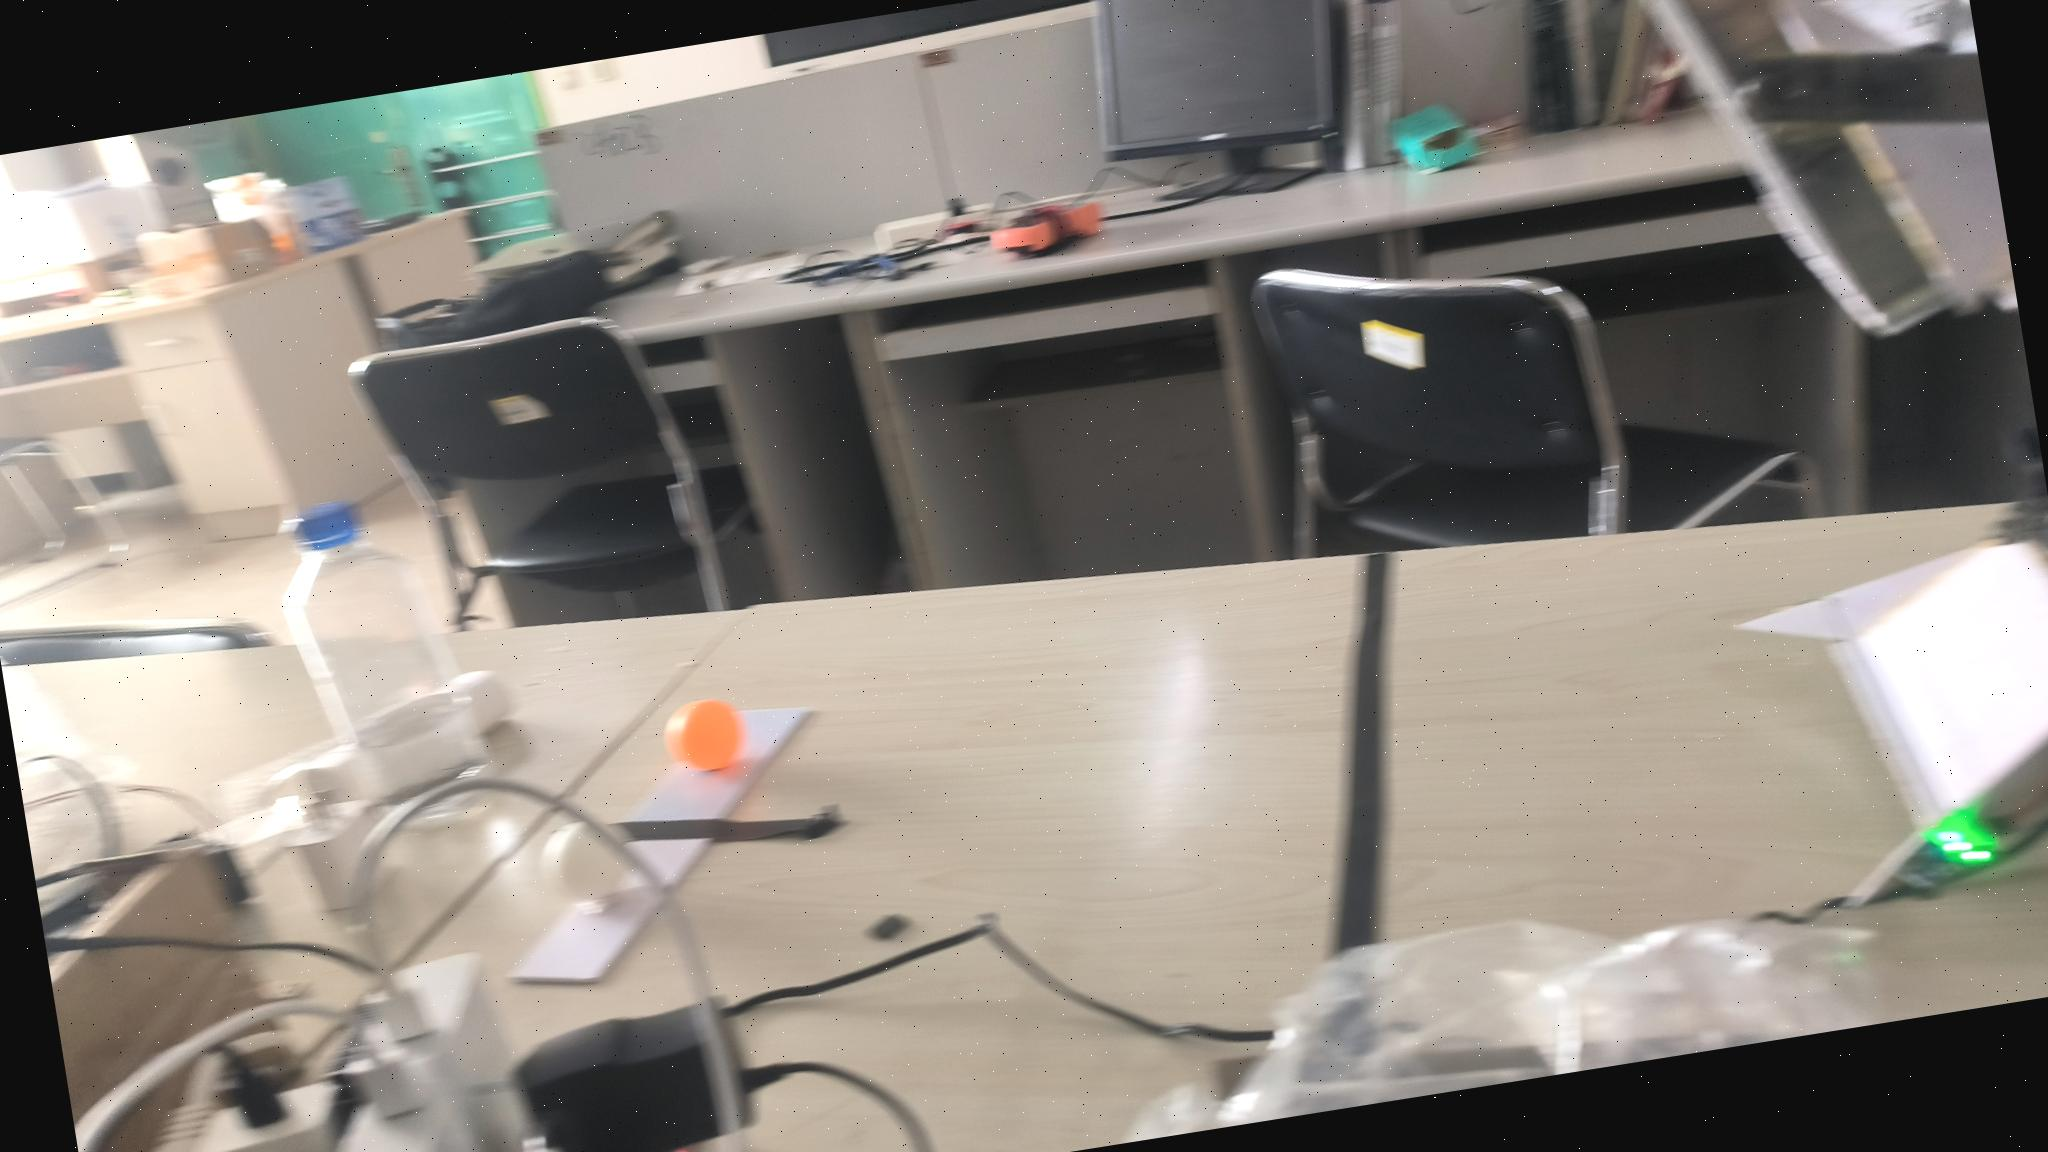ball: (537, 816, 634, 911), (658, 693, 751, 776)
